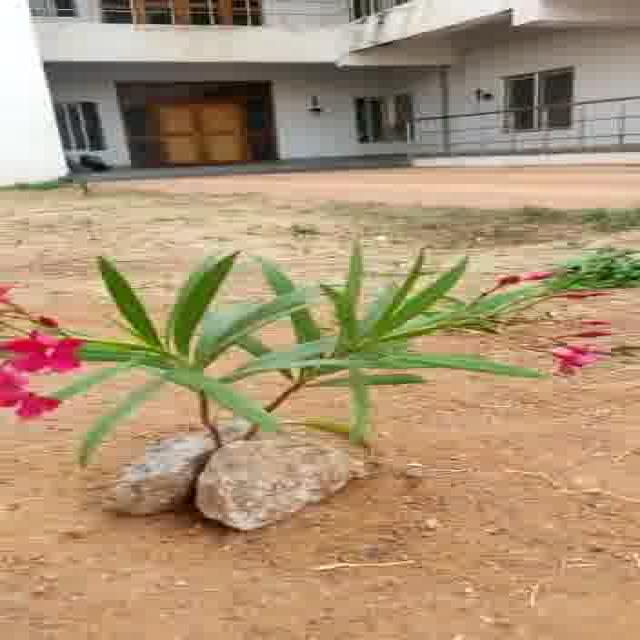Oleander: (7, 231, 640, 452)
